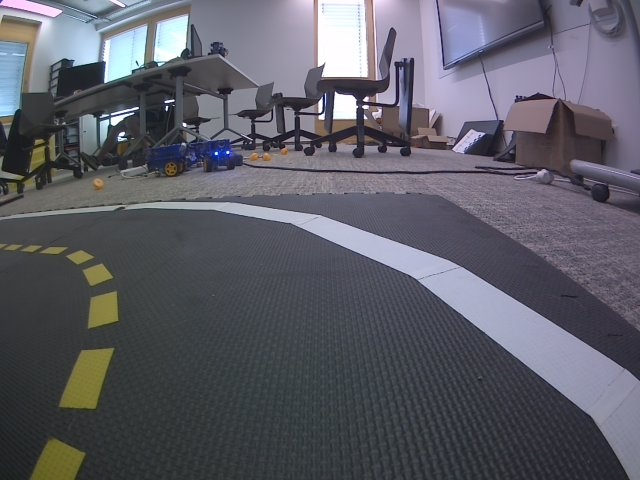Bot: (148, 144, 187, 178), (202, 139, 235, 173), (208, 42, 227, 57)
